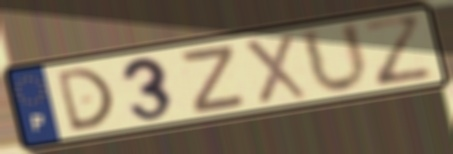3: (119, 53, 184, 124)
D: (53, 65, 117, 135)
U: (296, 18, 374, 96)
X: (239, 32, 311, 107)
Z: (358, 13, 439, 91), (180, 42, 249, 117)
